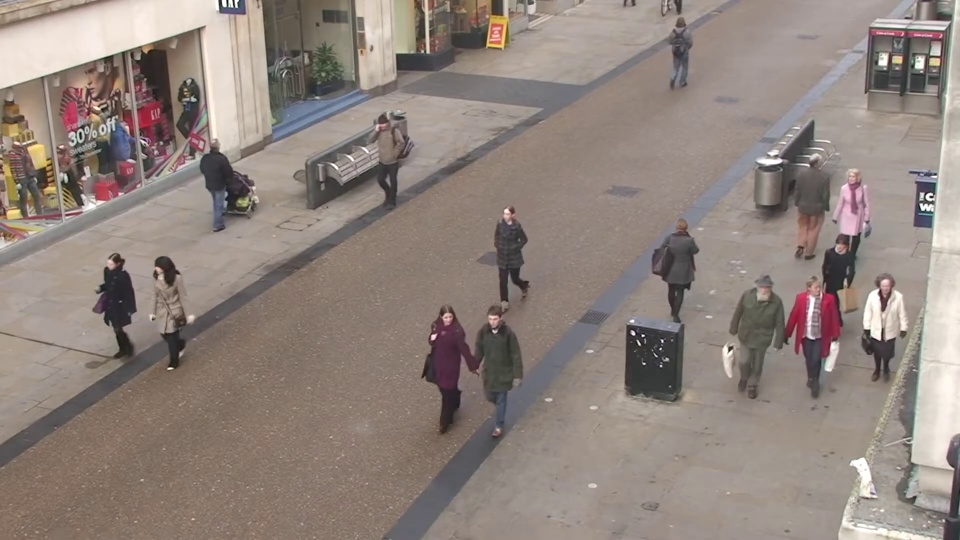pedestrian: (852, 274, 908, 414), (84, 253, 140, 382), (420, 301, 469, 446), (782, 275, 833, 414), (134, 255, 188, 385), (465, 306, 513, 451), (734, 281, 784, 420), (809, 231, 857, 358), (824, 168, 868, 279), (661, 210, 701, 331), (484, 201, 523, 321), (794, 148, 834, 253), (201, 135, 240, 234), (362, 115, 396, 210), (669, 13, 693, 80)
